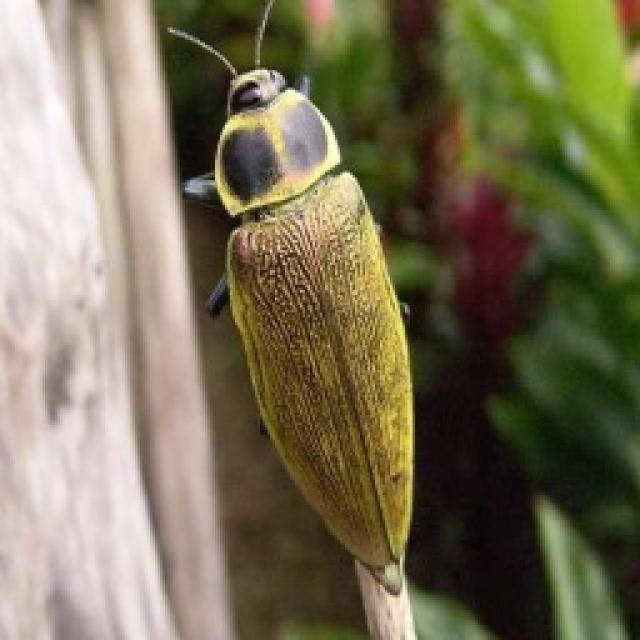cockroach: (223, 172, 418, 576)
